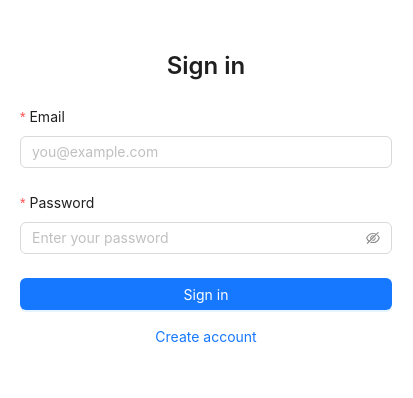
Test case: LoginPage › shows the generic server message on a 500
In the field labelled "Email": (206, 152) [20,136,392,168], type "alice@example.com"
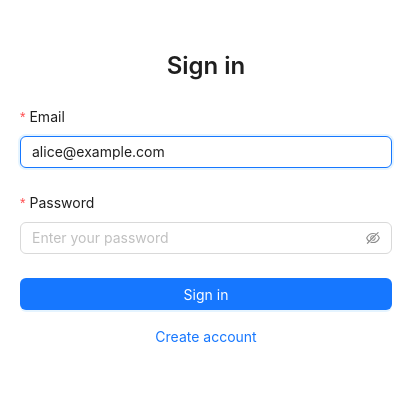
In the password field labelled "Password": (197, 238) [32,227,362,249], type "password123"
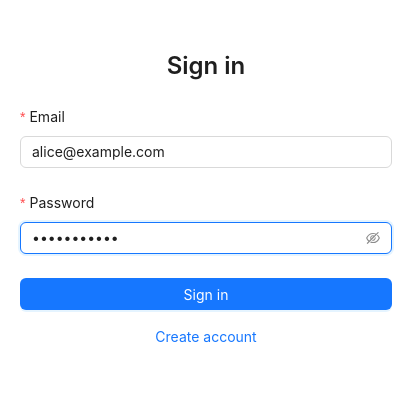
Click the button "Sign in": (206, 294) [20,278,392,310]
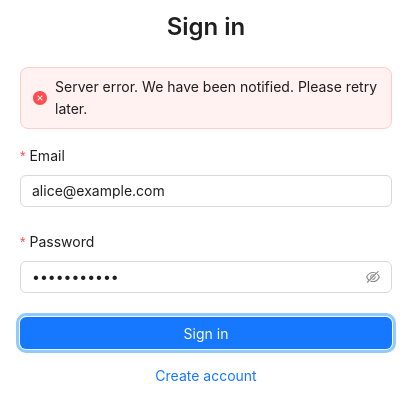
Now the text "Server error. We have been notified. Please retry later." is shown, box [55,76,379,120]
